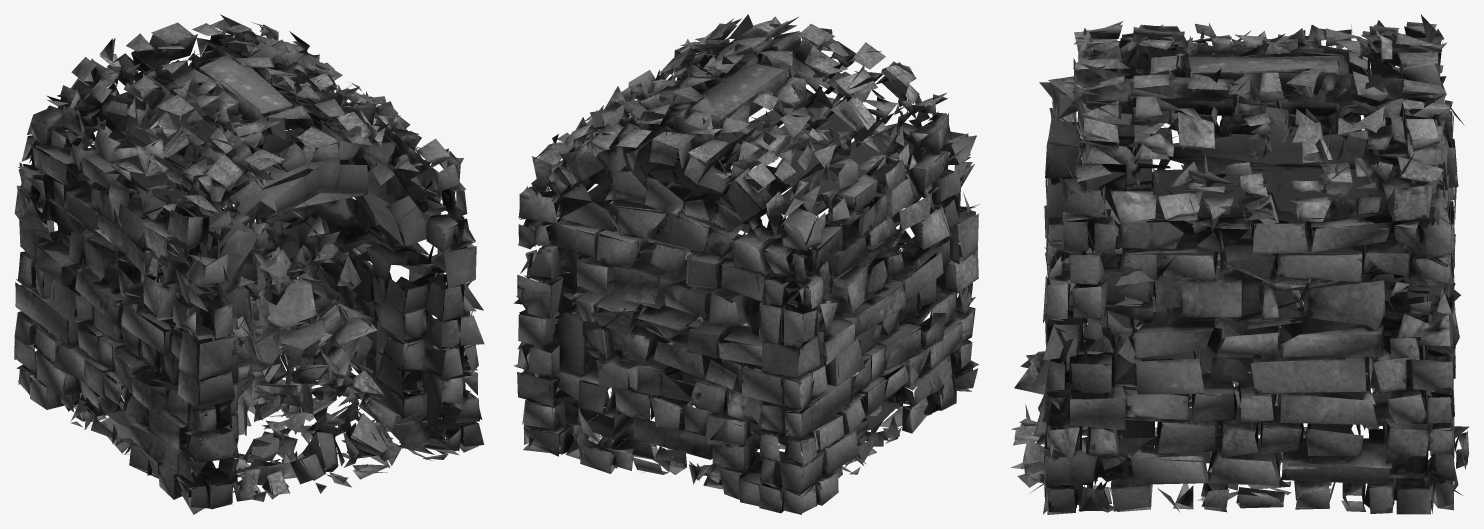
File: passage_rubble.glb
The picture shows the model from 3 angles, left to right: view 1: azimuth 30°, elevation 25°; view 2: azimuth 150°, elevation 25°; view 3: azimuth 270°, elevation 25°; orthographic projection. The views are drawn at different scales.
Parts seen in each view (by area): view 1: world; view 2: world; view 3: world.
Part boxes in pixels (left/top/right/bottom): world: left=14, top=14, right=484, bottom=514; world: left=513, top=14, right=979, bottom=514; world: left=1011, top=14, right=1469, bottom=514.
Bounding box in the file's own units: 0.8774 × 0.9537 × 0.9904.
Materials: 1 (1 with a texture image).
